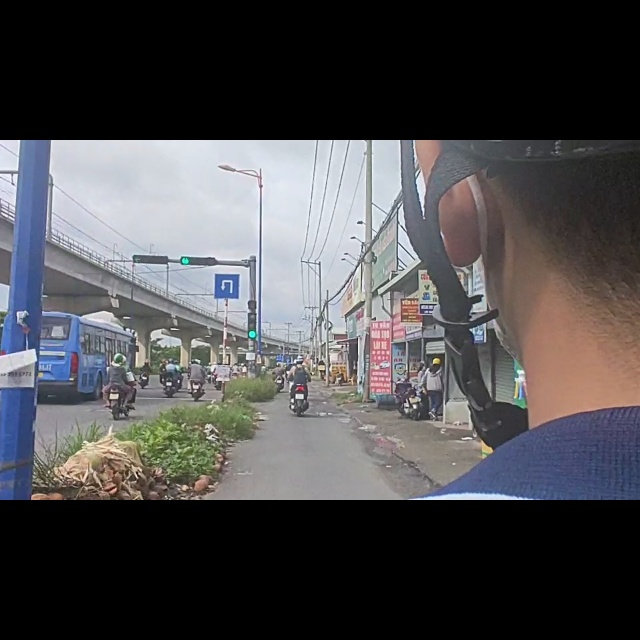bien_chi_dan: (213, 236, 241, 284)
